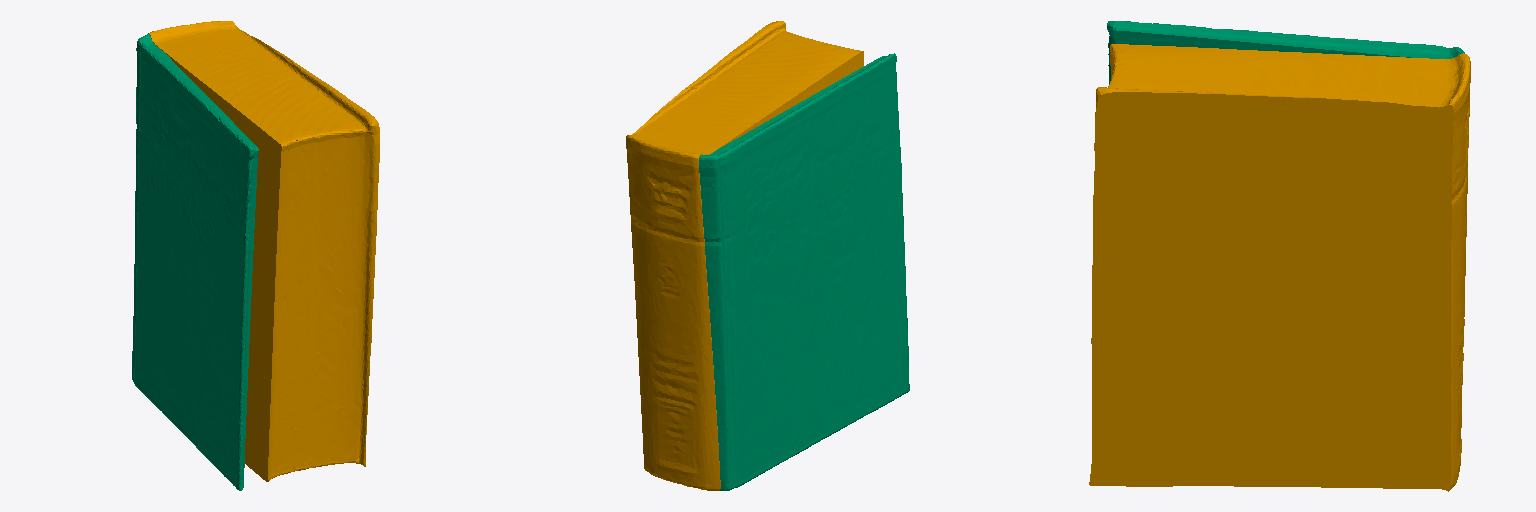
The robot description file, URDF, robot "book":
<?xml version="1.0"?>
<robot name="book">
  <link name ="rb0">
    <visual>
      <origin xyz='0.124599 -0.032295 -0.139641' rpy='-0.381872 -1.434270 -1.253276'/>
      <geometry>
        <mesh filename="package://articulated_objects_db/data/objects/book/meshes/book_bottom.dae"  scale="1 1 1" />
      </geometry>
    </visual>
  </link>
  <joint name="j_0_1" type="revolute">
    <parent link="rb0"/>
    <child link="rb1"/>
    <origin xyz="-0.0178475108059 0.0830259596699 -0.104886973761" rpy="0 0 0 "/>
    <axis xyz="0.0116820855415 0.0195133306668 0.999741345951"/>
    <limit effort="30" velocity="1.0" lower="-3.1416" upper="3.1416"/>
  </joint>
  <joint name="j_0_fixed" type="fixed">
    <parent link="rb1"/>
    <child link="rb1_marker"/>
      <origin xyz="-0.0399173662991 -0.20123964127 0.00394968654589" rpy="1.59426589408 0.0318340080446 1.38128013071"/>
    <limit effort="30" velocity="1.0" lower="-3.1416" upper="3.1416"/>
  </joint>
  <link name ="rb1">
  </link>
  <link name ="rb1_marker">
    <visual>
      <origin xyz='0.104927 -0.031305 0.080058' rpy='1.601578 -0.031979 1.722571'/>
      <geometry>
        <mesh filename="package://articulated_objects_db/data/objects/book/meshes/book_top.dae"  scale="1 1 1" />
      </geometry>
    </visual>
  </link>
</robot>

--- What the picture shows (computed from the rendered views, not written in the file) ---
The picture shows the robot from 3 angles, left to right: view 1: azimuth 30°, elevation 25°; view 2: azimuth 150°, elevation 25°; view 3: azimuth 270°, elevation 25°; orthographic projection.
Robot: book — 3 links, 2 joints (1 revolute, 1 fixed); root link rb0; default pose: every joint at zero.
Links seen in each view (by area): view 1: rb0, rb1_marker; view 2: rb1_marker, rb0; view 3: rb0, rb1_marker.
Link boxes in pixels (x1=…): rb0: x1=148, y1=21, x2=379, y2=481; rb1_marker: x1=132, y1=34, x2=258, y2=490; rb1_marker: x1=699, y1=53, x2=909, y2=490; rb0: x1=626, y1=21, x2=863, y2=490; rb0: x1=1089, y1=44, x2=1470, y2=491; rb1_marker: x1=1107, y1=21, x2=1464, y2=83.
Size in the robot's own frame: 0.1076 by 0.2137 by 0.2538 metres.
Meshes: 2 distinct files referenced, 2 mesh visuals loaded (2 Collada DAE).